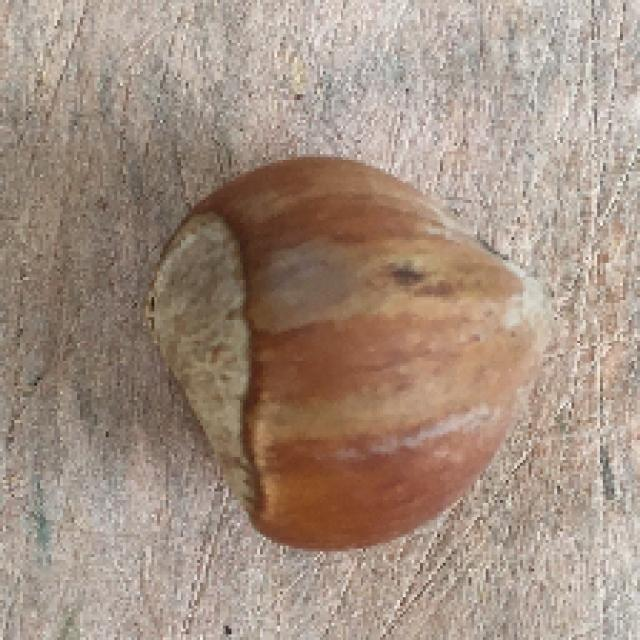qualityHazelnut: (132, 154, 560, 557)
